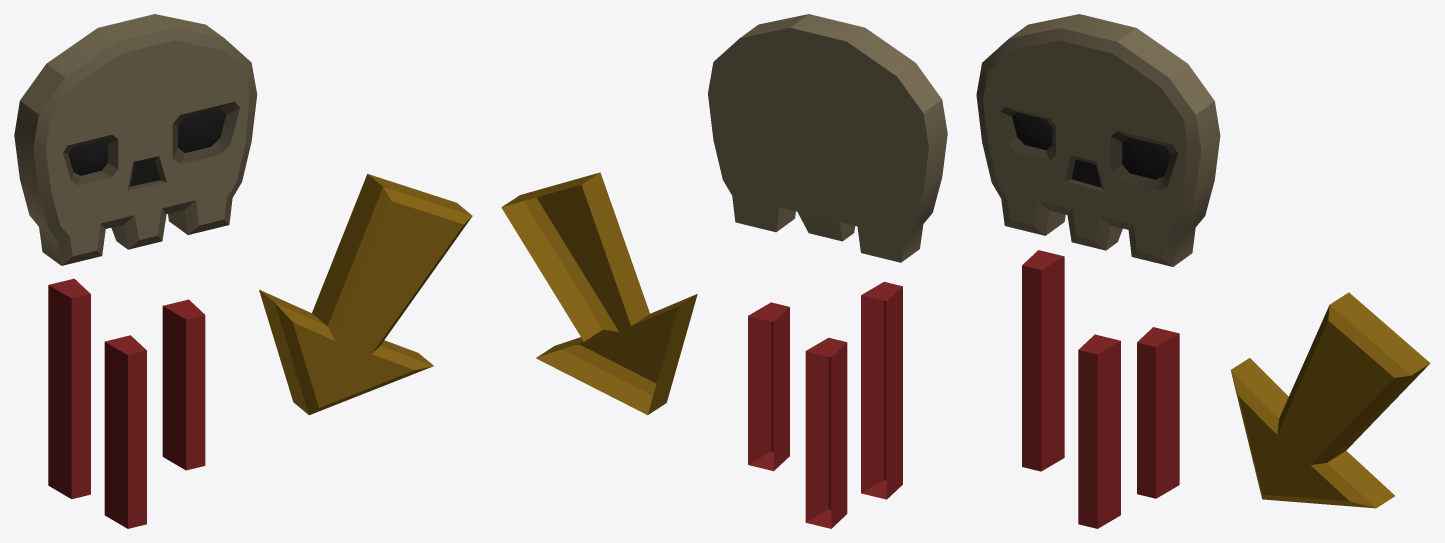
Rendered from landing_spot.fbx.
3 renders of one model, left to right at view 1: azimuth 30°, elevation 25°; view 2: azimuth 150°, elevation 25°; view 3: azimuth 330°, elevation 25°, orthographic.
Parts seen in each view (by area): view 1: landing_spot; view 2: landing_spot; view 3: landing_spot.
Part boxes in pixels (bbox=[...]): landing_spot: bbox=[14, 14, 472, 528]; landing_spot: bbox=[501, 14, 947, 528]; landing_spot: bbox=[976, 14, 1430, 528].
Size of the model in its own units: 1.78 by 1.92 by 0.2153.
